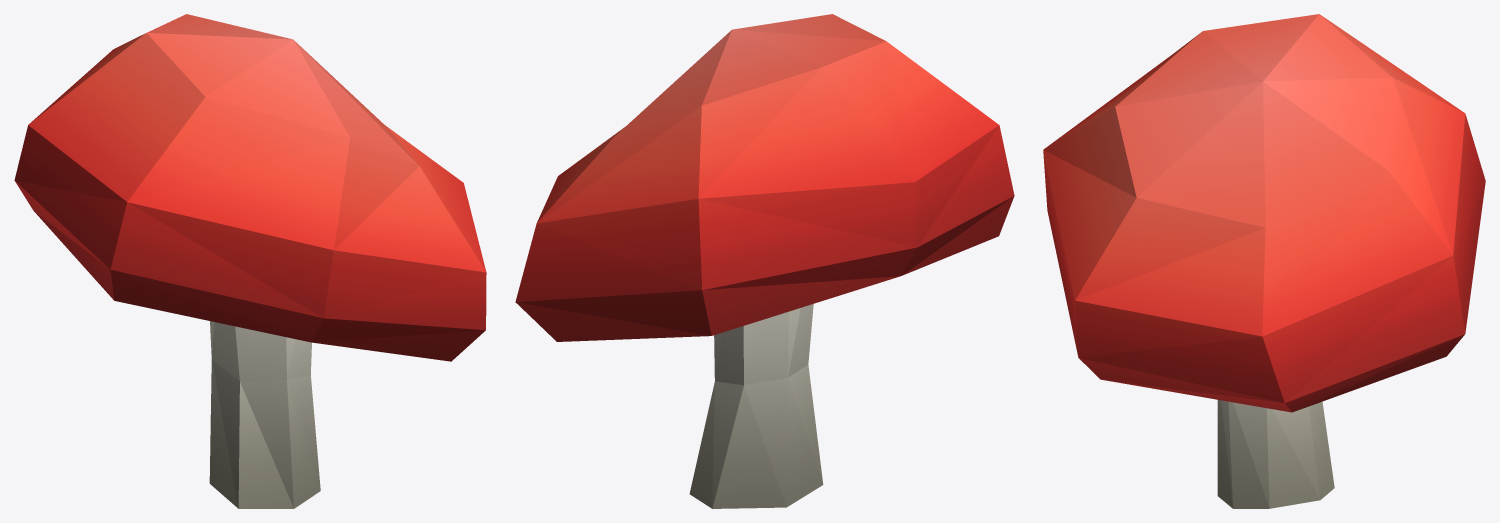
File: MushroomRed-02.FBX
The picture shows the model from 3 angles, left to right: view 1: azimuth 30°, elevation 25°; view 2: azimuth 150°, elevation 25°; view 3: azimuth 270°, elevation 25°; orthographic projection. The views are drawn at different scales.
Parts seen in each view (by area): view 1: MushroomRed-02; view 2: MushroomRed-02; view 3: MushroomRed-02.
Part boxes in pixels (left/top/right/bottom): MushroomRed-02: left=14, top=14, right=486, bottom=508; MushroomRed-02: left=515, top=14, right=1014, bottom=508; MushroomRed-02: left=1043, top=14, right=1485, bottom=508.
Size of the model in its own units: 47.39 by 51.62 by 47.25.
1 material, 1 textured.
